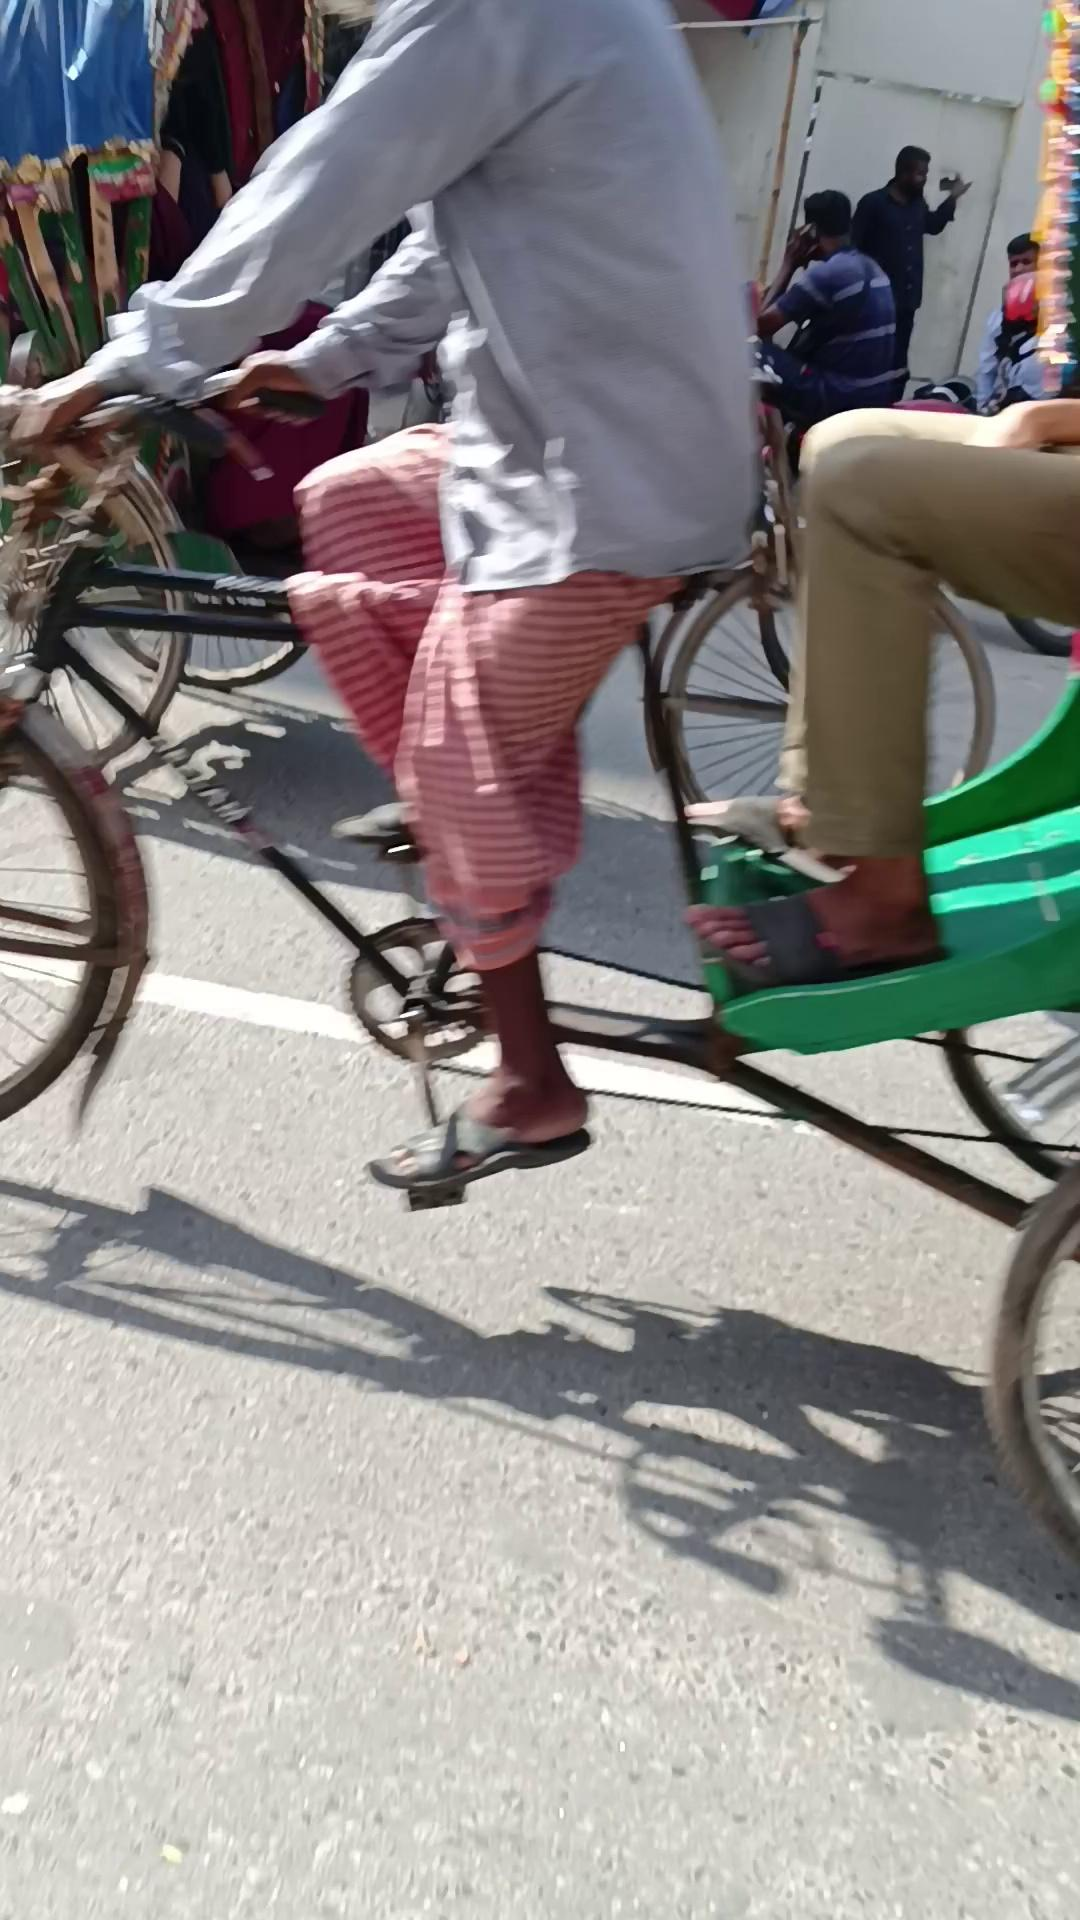Curb: (28, 1, 765, 1192), (680, 394, 1079, 985), (849, 144, 972, 400)
Obstacle: (667, 1, 1060, 406)
